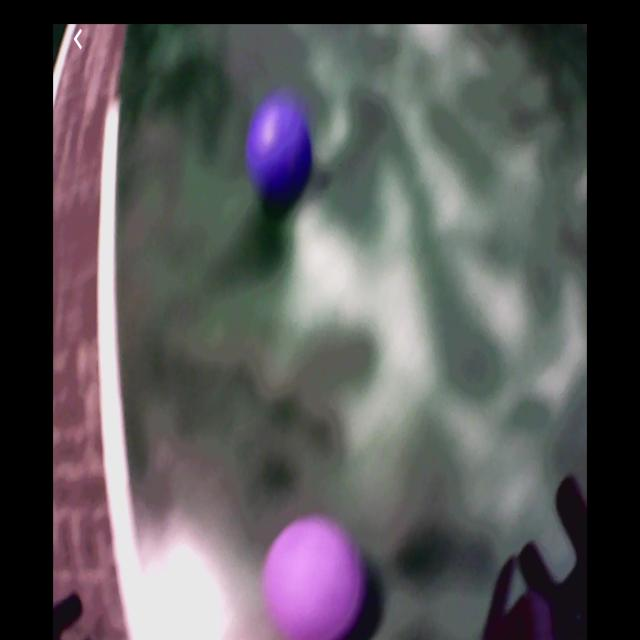ball: (261, 517, 365, 639), (248, 97, 314, 210)
